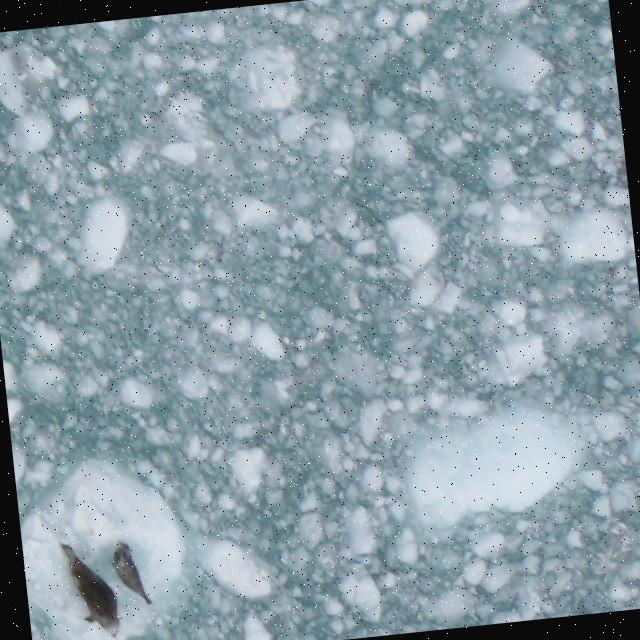seal: (57, 533, 126, 640), (105, 533, 158, 612)
